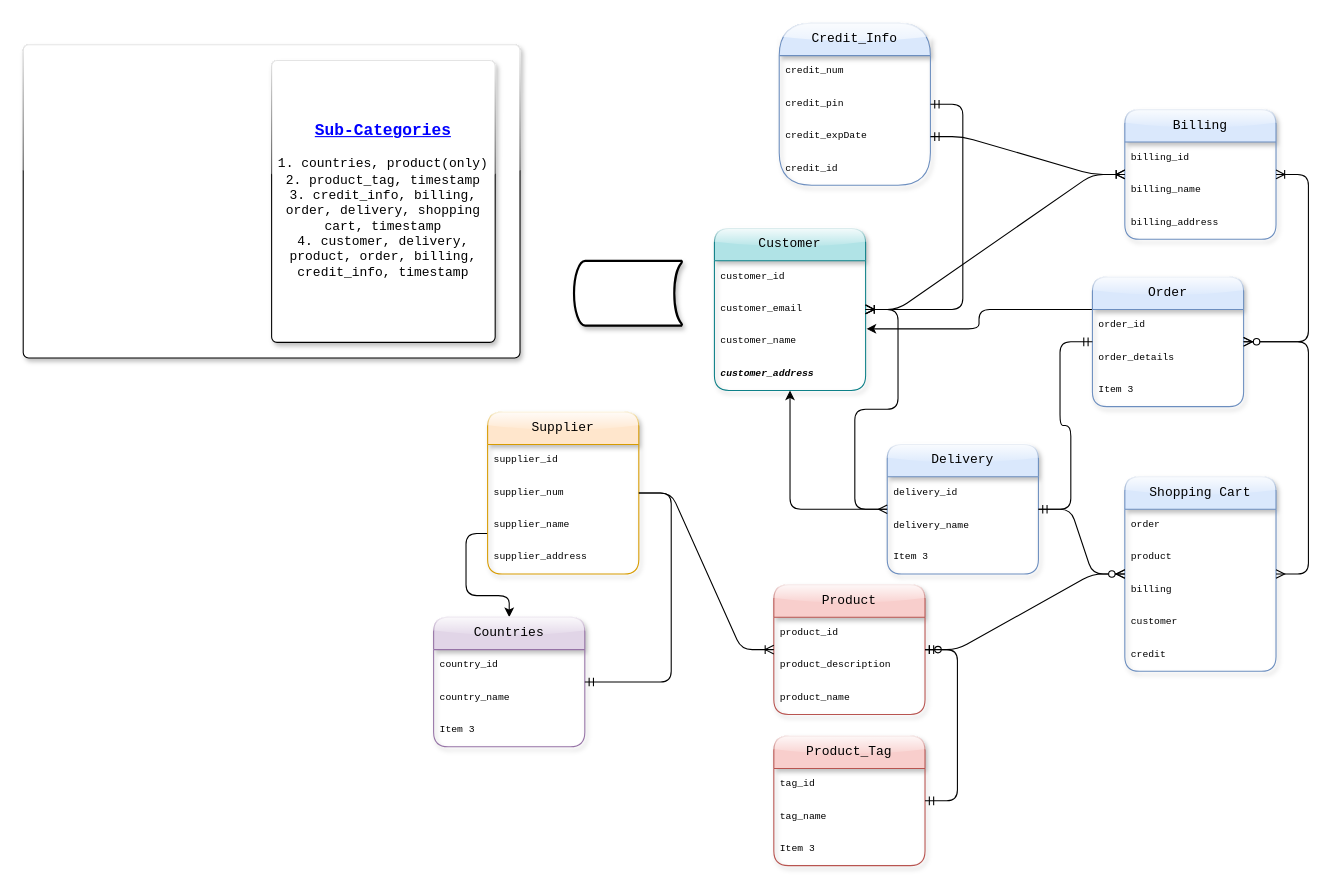
The diagram is 1337 pixels wide and 892 high, and some of its shapes have lost their labels. Each missing label, with the centre of its shape:
Key 1. Supplier 2. Product 3. Customer 4. Shopping Cart: the point at 148,202
TIMESTAMP: the point at 628,294
